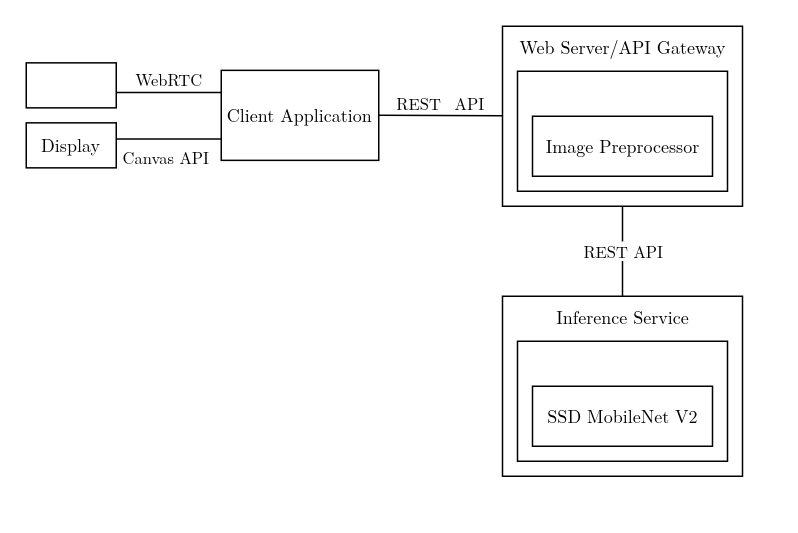
This 798x533 diagram has some shape labels left out. Here are the shapes that lost their labels. From the top down, the box of each, then its label:
(25, 61, 116, 108): Camera
(516, 70, 728, 191): FastAPI backend
(516, 340, 728, 461): Tensorflow Serving
